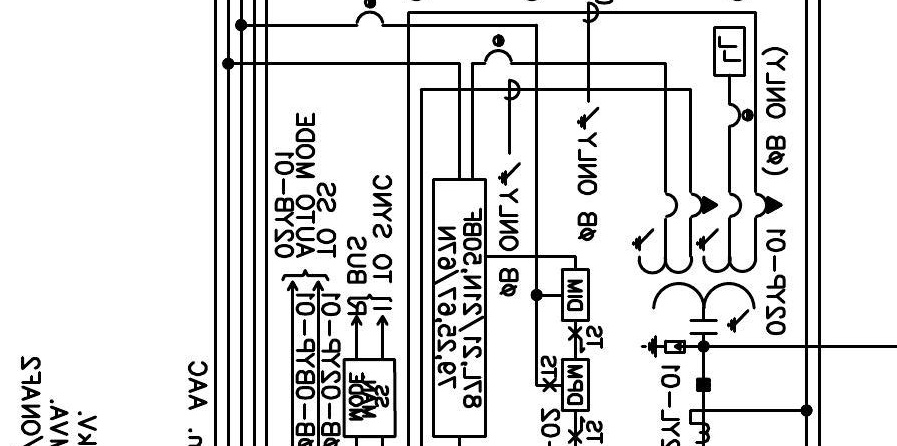115_cvt_1p: (631, 190, 784, 336)
115_la: (640, 335, 686, 359)
DIM: (561, 268, 590, 322)
DPM: (561, 358, 590, 412)
LL: (713, 26, 746, 77)
ss_man_mode: (342, 358, 397, 438)
